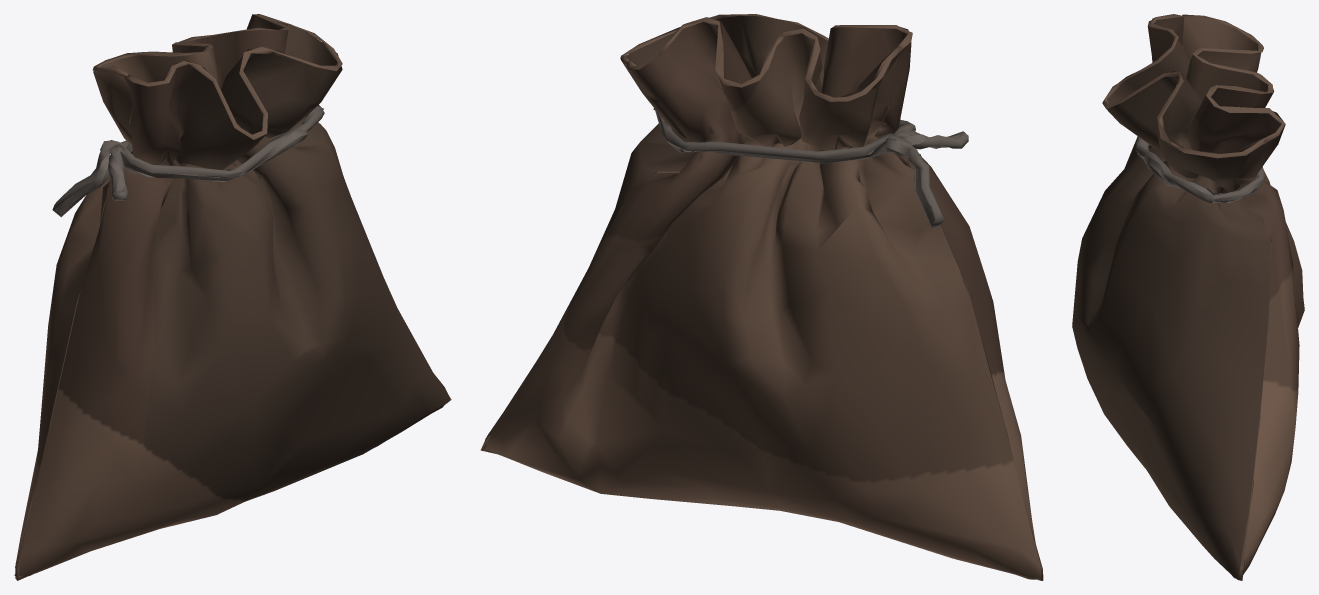
Rendered from coin_bag.glb.
3 views of the same model, side by side, from view 1: azimuth 30°, elevation 25°; view 2: azimuth 150°, elevation 25°; view 3: azimuth 270°, elevation 25° (orthographic). The views are drawn at different scales.
Visible parts, largest first — view 1: Object_3.001; view 2: Object_3.001; view 3: Object_3.001.
Part boxes in pixels (left/top/right/bottom): Object_3.001: left=14, top=14, right=451, bottom=580; Object_3.001: left=480, top=14, right=1043, bottom=580; Object_3.001: left=1072, top=14, right=1304, bottom=580.
Size of the model in its own units: 1.66 by 1.58 by 0.7569.
2 materials, 2 textured.
